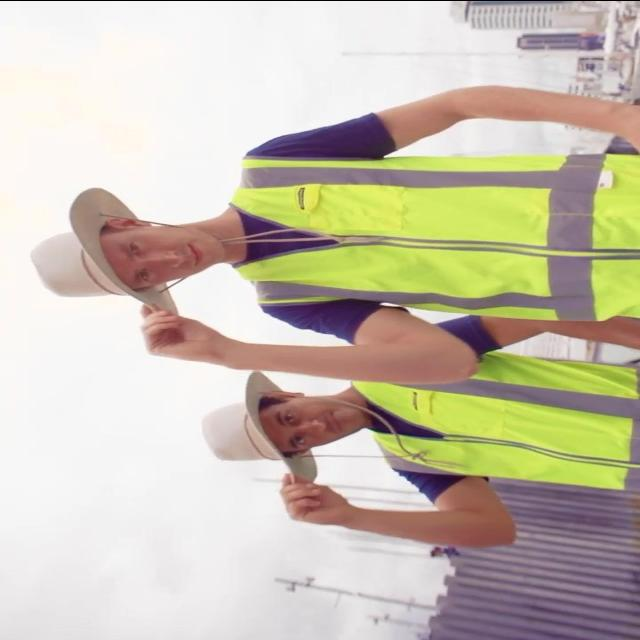jacket: (230, 140, 640, 318), (362, 352, 640, 483)
